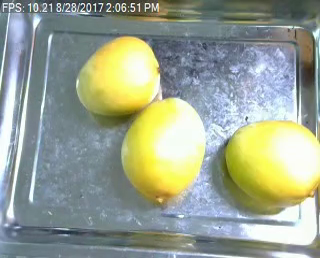Mango: (119, 96, 205, 202), (225, 119, 320, 210), (75, 36, 160, 114)
